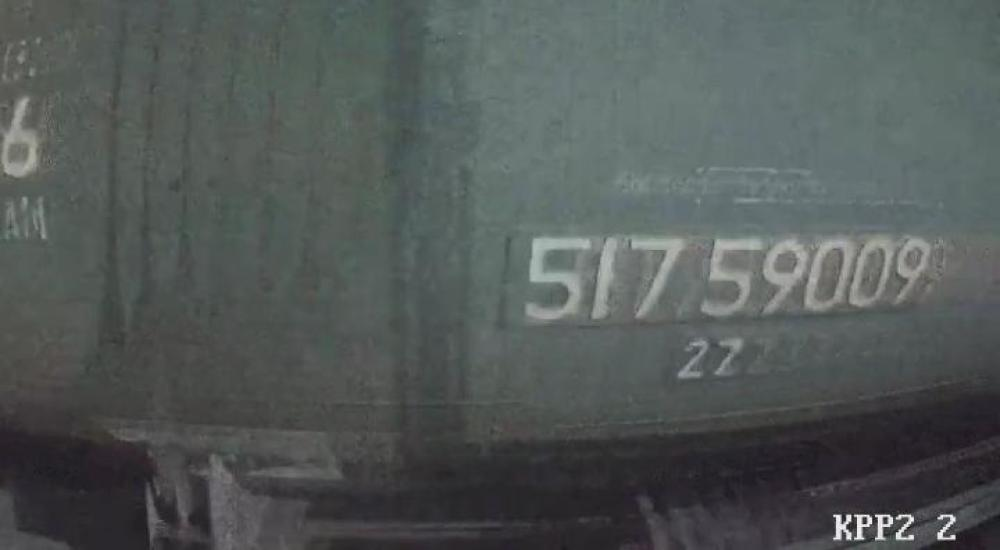Wagon-number: (517, 226, 934, 324)
